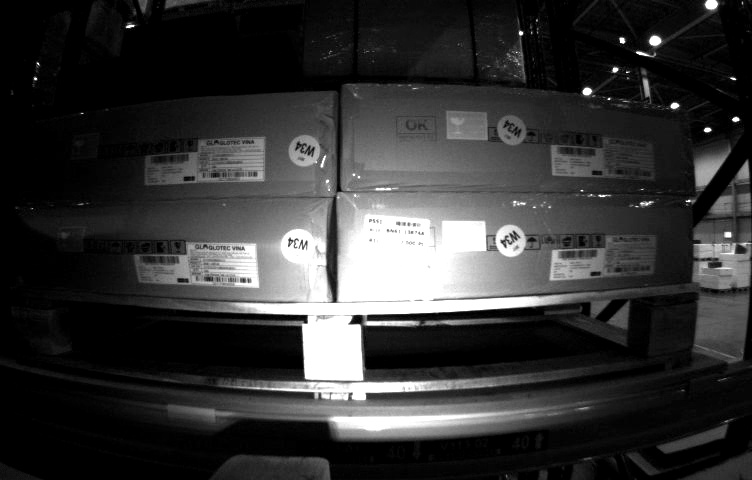True Barcode: (364, 213, 430, 273)
